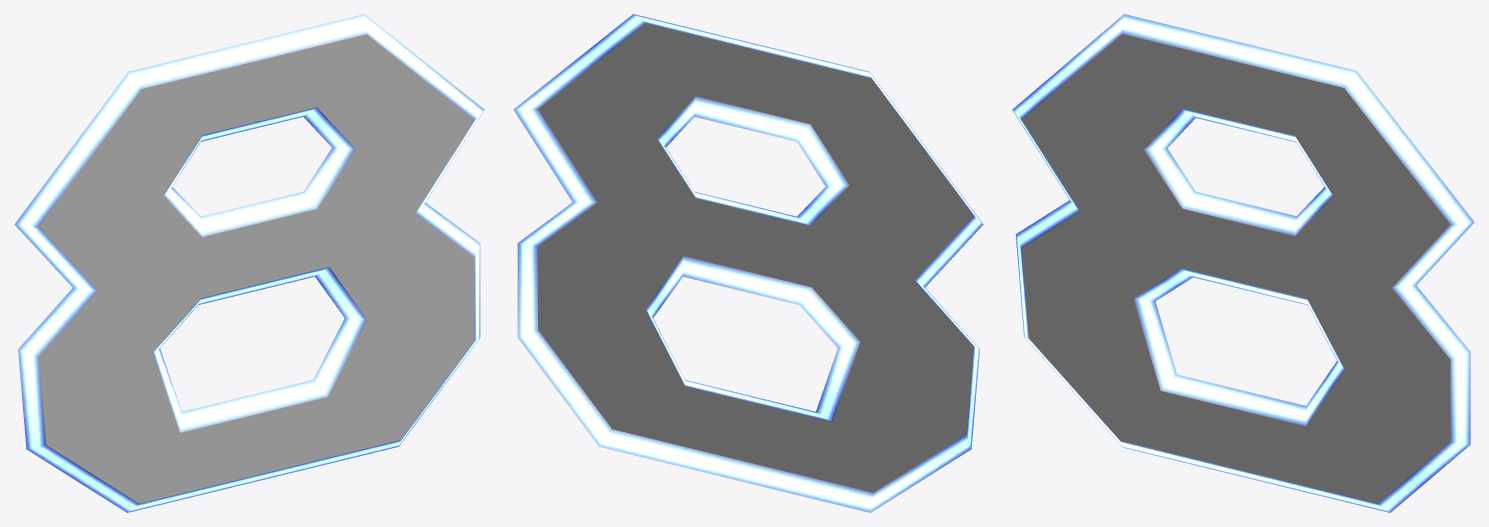
3 views of the same model, side by side, from view 1: azimuth 30°, elevation 25°; view 2: azimuth 150°, elevation 25°; view 3: azimuth 330°, elevation 25° (orthographic).
Parts seen in each view (by area): view 1: LT_8; view 2: LT_8; view 3: LT_8.
Boxes of the visible parts, left/top/right/bottom form: LT_8: left=14, top=14, right=484, bottom=512; LT_8: left=513, top=14, right=983, bottom=512; LT_8: left=1012, top=14, right=1474, bottom=512.
Size of the model in its own units: 0.2558 by 0.2293 by 0.007.
